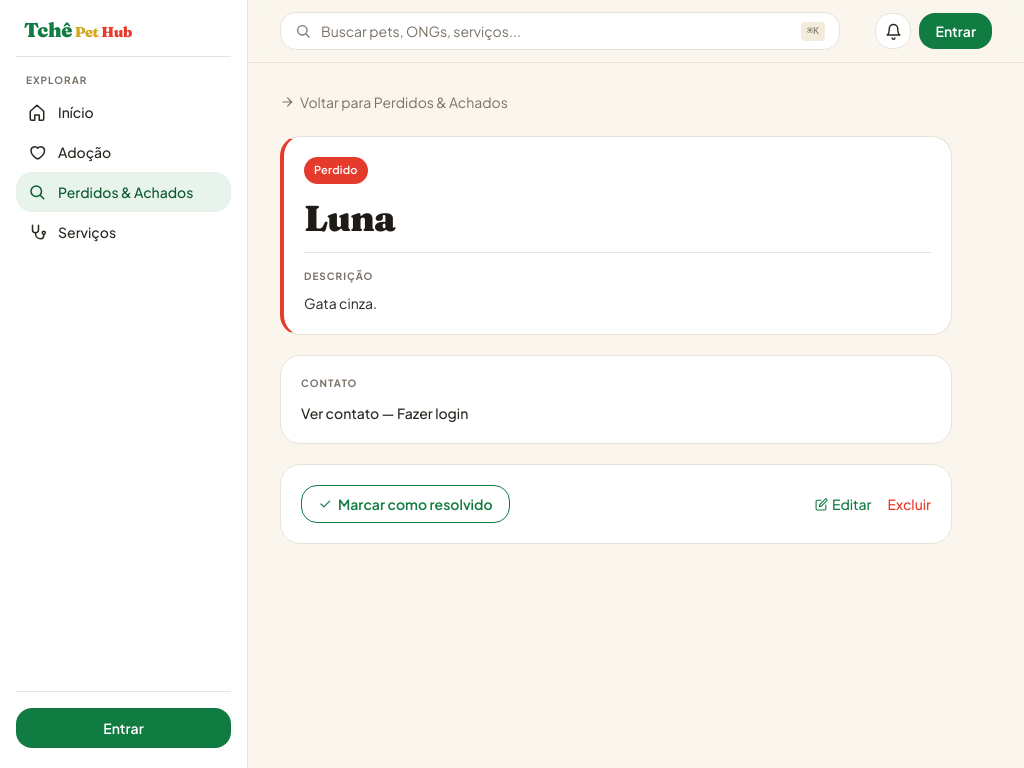
Scenario: LostFoundDetailPage — delete › creator › shows confirmation step when delete button clicked
What coordinates should you click on to do the following:
click the button "Excluir"
I would click on:
 (909, 504)
Its box is [888, 494, 931, 514].
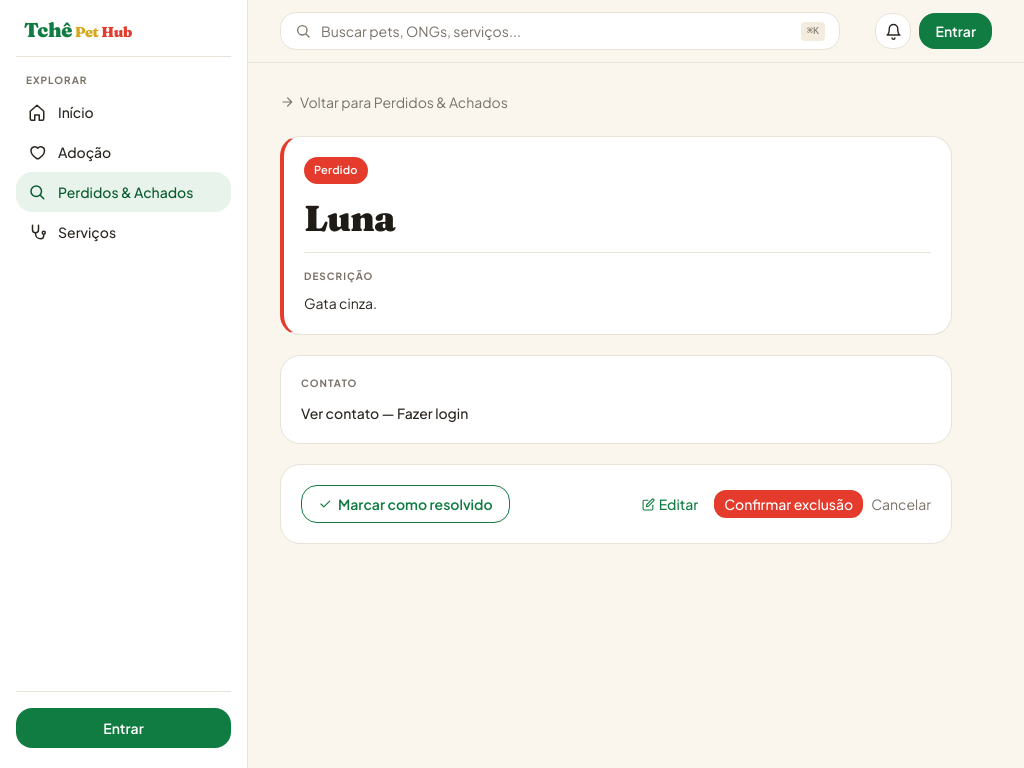
Now the button "Confirmar exclusão" is shown, box [714, 490, 863, 518]
Now the button "Cancelar" is shown, box [871, 494, 931, 514]
